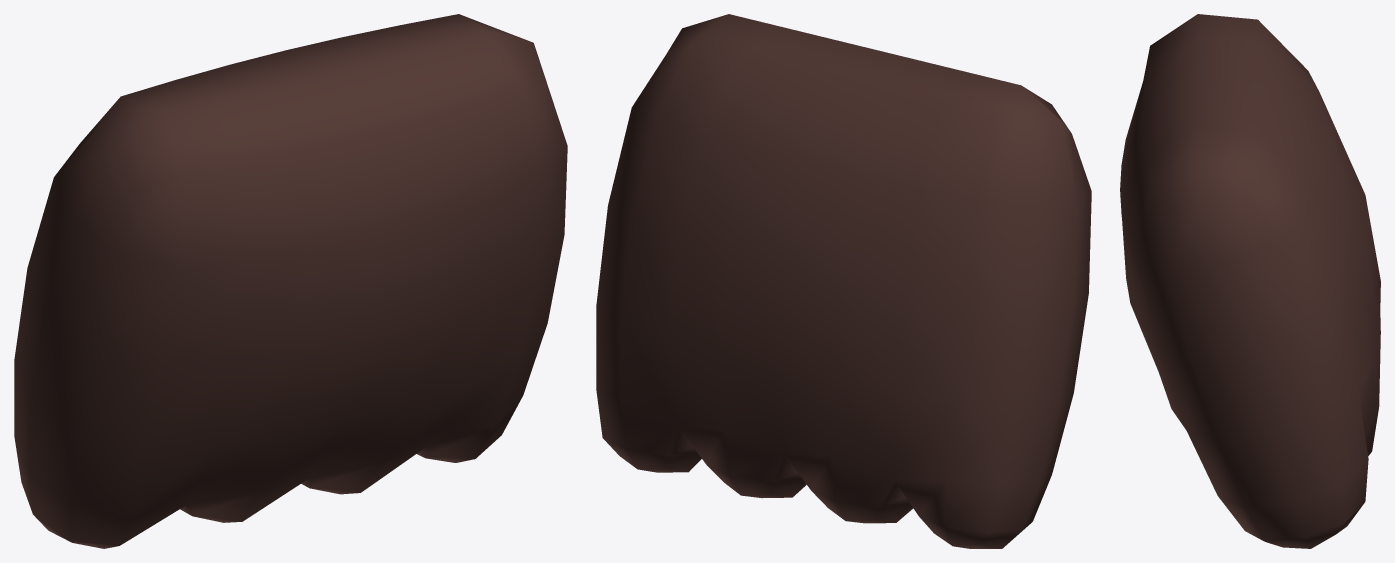
Rendered from Mustache_Brown_001.glb.
3 views of the same model, side by side, from view 1: azimuth 30°, elevation 25°; view 2: azimuth 150°, elevation 25°; view 3: azimuth 270°, elevation 25° (orthographic). The views are drawn at different scales.
Visible parts, largest first — view 1: Mustache_Brown_001; view 2: Mustache_Brown_001; view 3: Mustache_Brown_001.
Part boxes in pixels (left/top/right/bottom): Mustache_Brown_001: left=14, top=14, right=567, bottom=548; Mustache_Brown_001: left=596, top=14, right=1091, bottom=548; Mustache_Brown_001: left=1120, top=14, right=1380, bottom=548.
Bounding box in the file's own units: 0.0818 × 0.0731 × 0.044.
Materials: 1 (1 with a texture image).
